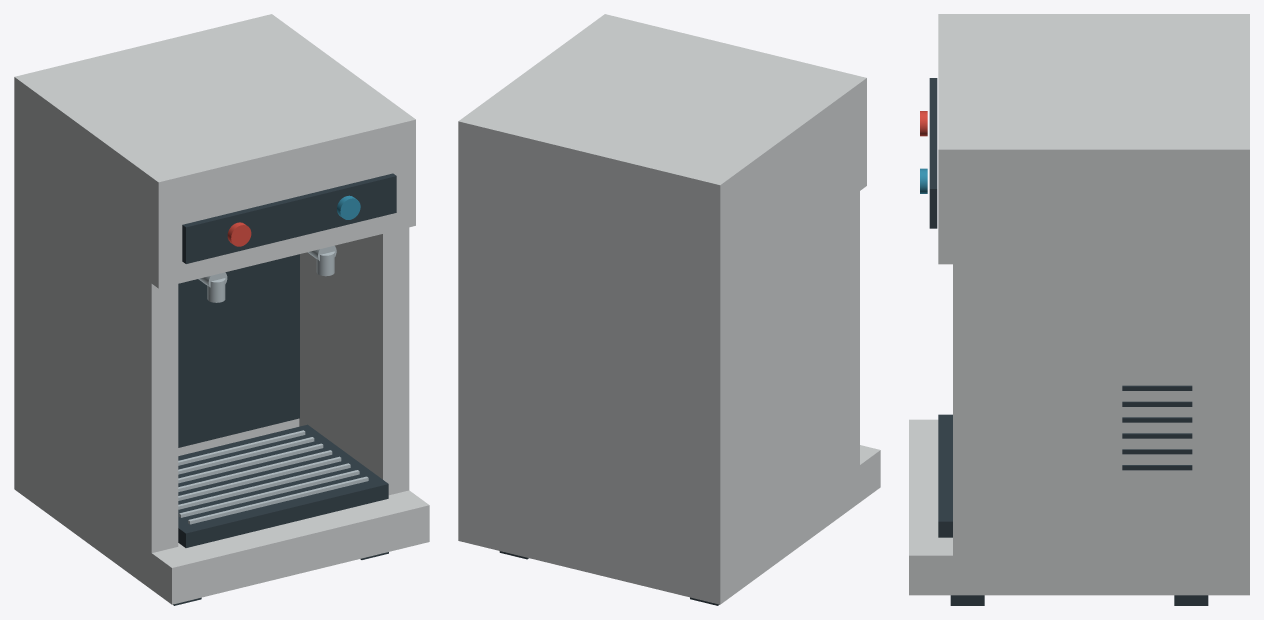
File: water_dispenser_countertop.glb
3 renders of one model, left to right at view 1: azimuth 30°, elevation 25°; view 2: azimuth 150°, elevation 25°; view 3: azimuth 270°, elevation 25°, orthographic. The views are drawn at different scales.
Parts seen in each view (by area): view 1: side (×2), top, base, recess_back, back, drip_tray_tray, control_strip, drip_tray_bar_7, drip_tray_bar_6, drip_tray_bar_5, drip_tray_bar_4, drip_tray_bar_3 (+3 smaller); view 2: back, top, side, base; view 3: side, top, back, base, drip_tray_tray, control_strip.
Boxes of the visible parts, x1,y1,x2,y2 form: side (×2): (21,109,409,552); top: (14,14,415,288); base: (14,453,429,604); recess_back: (178,254,299,447); back: (14,101,299,480); drip_tray_tray: (178,424,388,547); control_strip: (182,173,396,263); drip_tray_bar_7: (188,476,368,524); drip_tray_bar_6: (179,470,359,517); drip_tray_bar_5: (178,463,350,509); drip_tray_bar_4: (178,456,341,500); drip_tray_bar_3: (178,450,332,491); back: (458,146,775,567); top: (458,14,866,292); side: (727,108,859,561); base: (458,445,880,604); side: (953,176,1235,555); top: (938,14,1249,264); back: (1133,176,1249,555); base: (909,419,1249,595); drip_tray_tray: (938,414,952,537); control_strip: (929,78,937,228).
Bounding box in the file's own units: 0.332 × 0.53 × 0.35.
